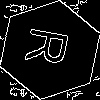R: (25, 25, 79, 70)
